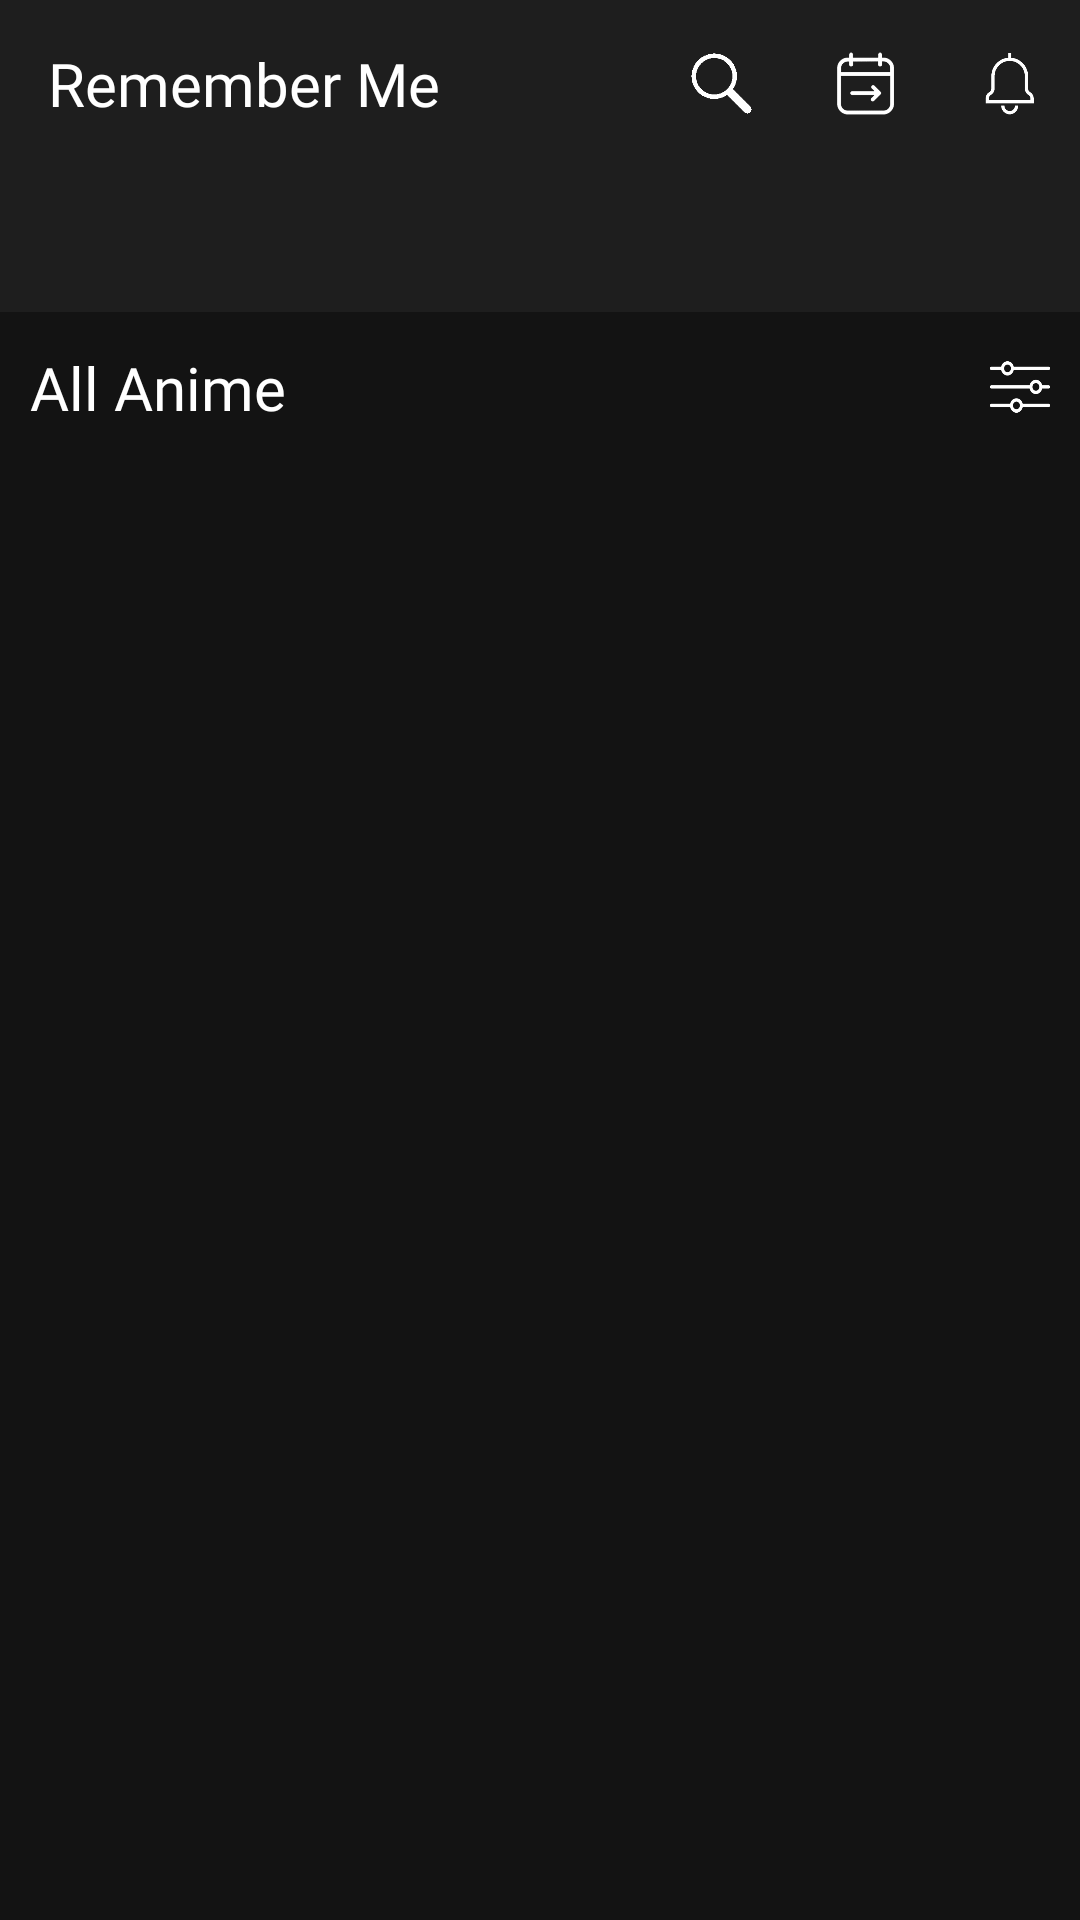

Icon bounding boxes for this 1080px x 1920px phone screenshot, format {"x1": x1, "y1": y1, "x2": x2, "y2": y2}:
filter: {"x1": 990, "y1": 361, "x2": 1050, "y2": 413}
notifications: {"x1": 985, "y1": 53, "x2": 1034, "y2": 115}
search: {"x1": 691, "y1": 53, "x2": 752, "y2": 114}
upcoming: {"x1": 837, "y1": 52, "x2": 894, "y2": 115}
